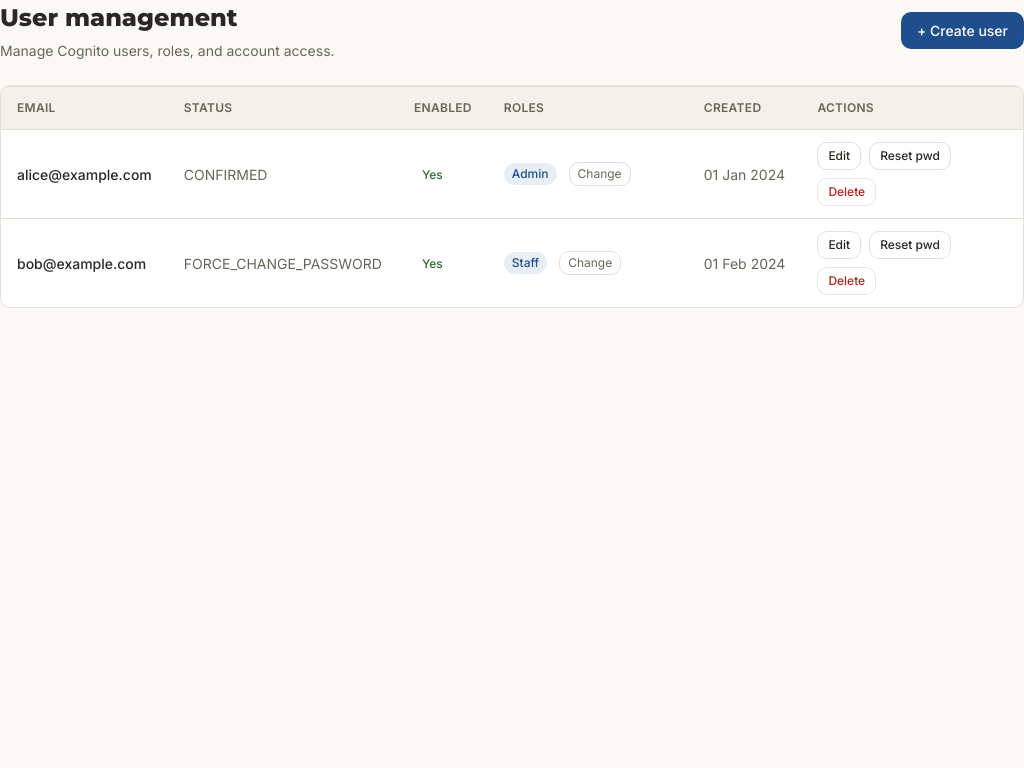
Test case: UsersPage — delete flow › opens ConfirmDialog when a Delete button is clicked
Check: the text "alice@example.com" is shown, box [1,130,168,218]
What coordinates should you click on to do the following:
click the button with aria-label "delete alice@example.com"
I would click on:
 (847, 192)
Its box is [817,178,876,206].
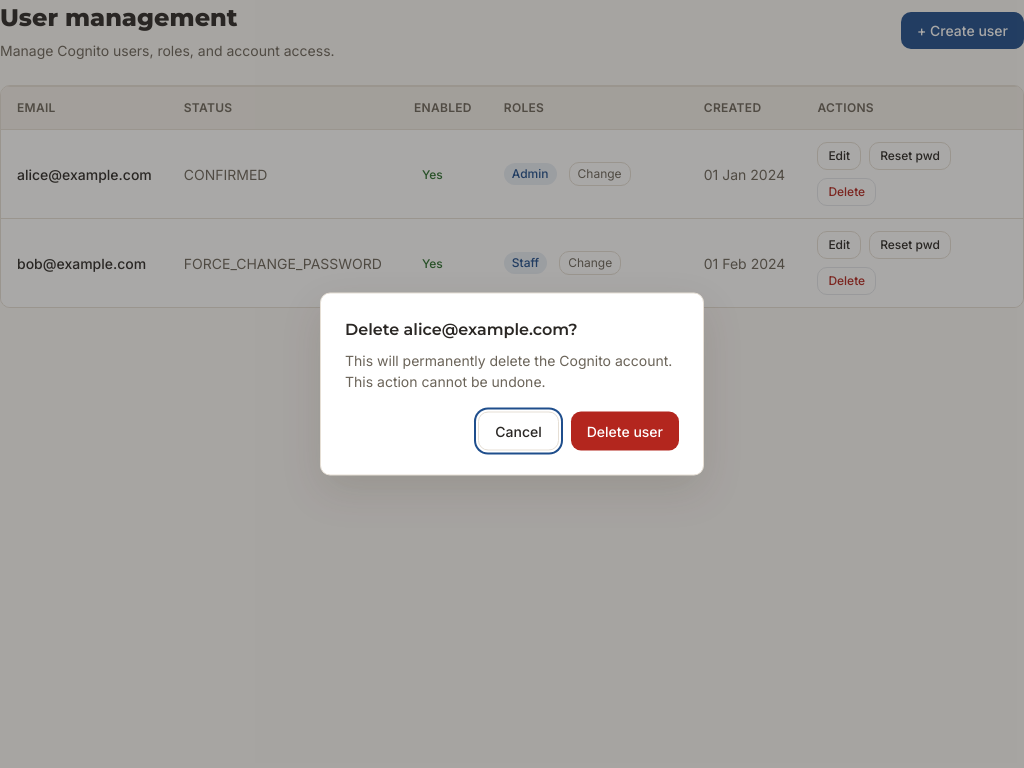
Check: the dialog is shown, box [320,292,704,476]
Check: the heading "Delete alice@example.com?" is shown, box [345,320,578,338]
